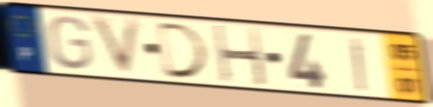4: (286, 30, 330, 91)
D: (155, 20, 213, 81)
G: (47, 14, 95, 72)
H: (211, 23, 269, 88)
I: (348, 35, 369, 94)
V: (86, 12, 146, 80)
